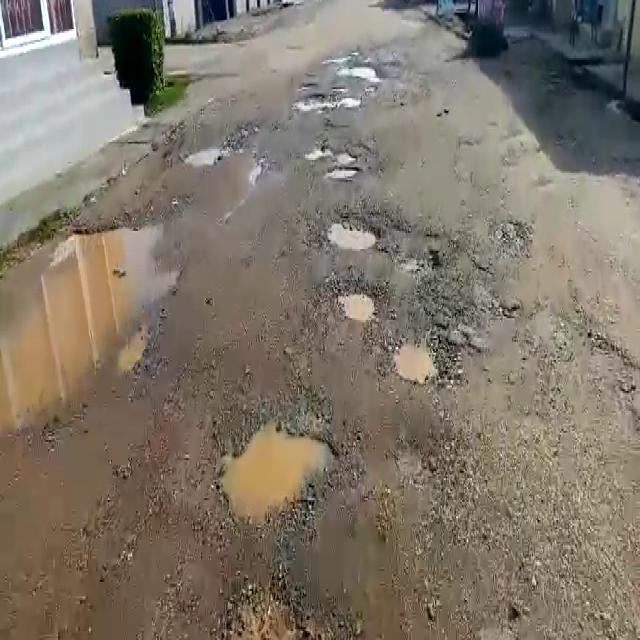Pothole: (0, 233, 179, 439), (216, 416, 343, 528), (323, 214, 384, 256), (393, 338, 447, 380), (334, 282, 381, 326), (294, 94, 354, 114), (185, 142, 224, 166), (344, 62, 382, 78)
